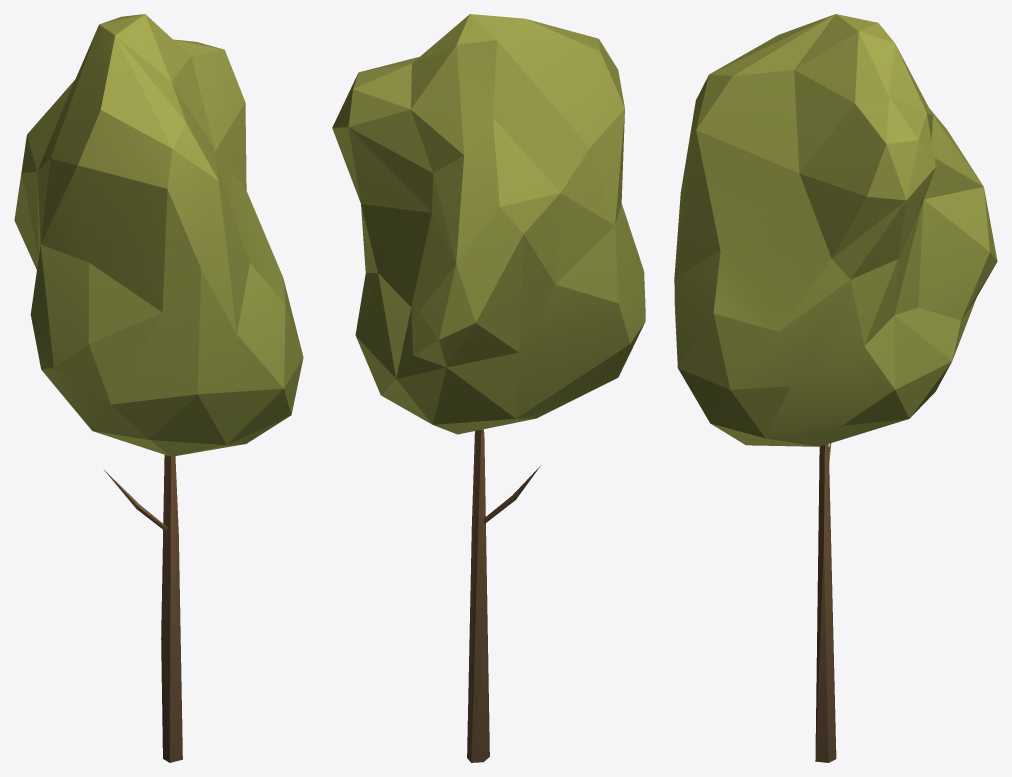
Rendered from Spring_Tree_09.glb.
3 views of the same model, side by side, from view 1: azimuth 30°, elevation 25°; view 2: azimuth 150°, elevation 25°; view 3: azimuth 270°, elevation 25° (orthographic). The views are drawn at different scales.
Parts seen in each view (by area): view 1: Spring_Tree_09_LOD0; view 2: Spring_Tree_09_LOD0; view 3: Spring_Tree_09_LOD0.
Boxes of the visible parts, x1=… form: Spring_Tree_09_LOD0: x1=14, y1=14, x2=303, y2=762; Spring_Tree_09_LOD0: x1=332, y1=14, x2=645, y2=762; Spring_Tree_09_LOD0: x1=674, y1=14, x2=997, y2=762.
Size of what is drawn, in the model's own units: 1.2 by 3.53 by 1.43.
1 material, 1 textured.
